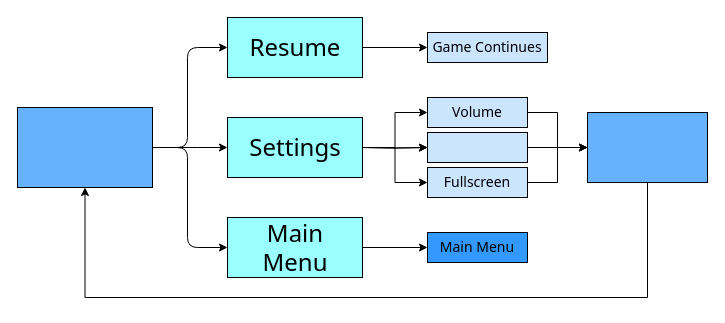
This 725x323 diagram has some shape labels left out. The shapes that lost their labels are listed below. From the top down, each one's box as (x1, y1, x2, y2) in pixels, then its label:
(16, 106, 152, 188): In-Game Menu
(426, 132, 528, 162): FPS Cap
(586, 112, 708, 182): Back To In-Game Menu
